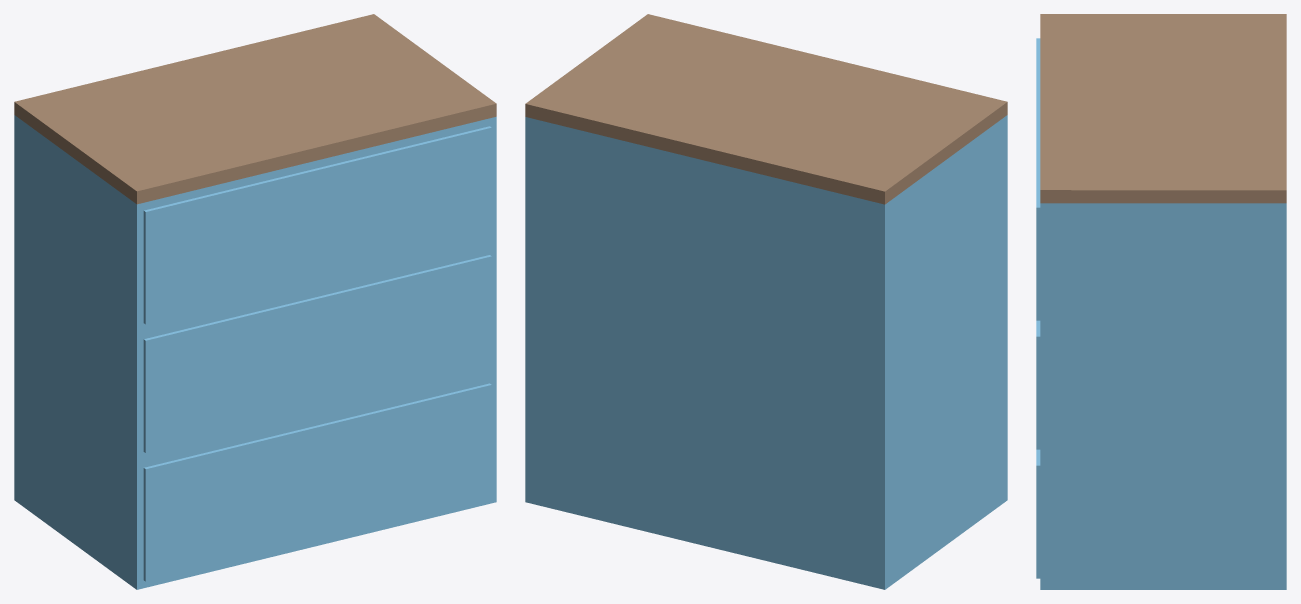
The model's file is Kitchen_2_Cabinet_4.fbx.
3 views of the same model, side by side, from view 1: azimuth 30°, elevation 25°; view 2: azimuth 150°, elevation 25°; view 3: azimuth 270°, elevation 25° (orthographic).
Parts seen in each view (by area): view 1: Kitchen_2_Cabinet_4; view 2: Kitchen_2_Cabinet_4; view 3: Kitchen_2_Cabinet_4.
Part boxes in pixels (bbox=[...]): Kitchen_2_Cabinet_4: bbox=[14, 14, 496, 589]; Kitchen_2_Cabinet_4: bbox=[525, 14, 1007, 589]; Kitchen_2_Cabinet_4: bbox=[1036, 14, 1286, 589].
Size of the model in its own units: 122 by 73.33 by 129.
